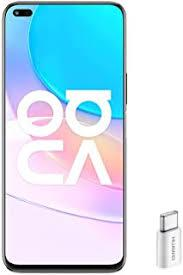Smartphone: (4, 7, 123, 274)
